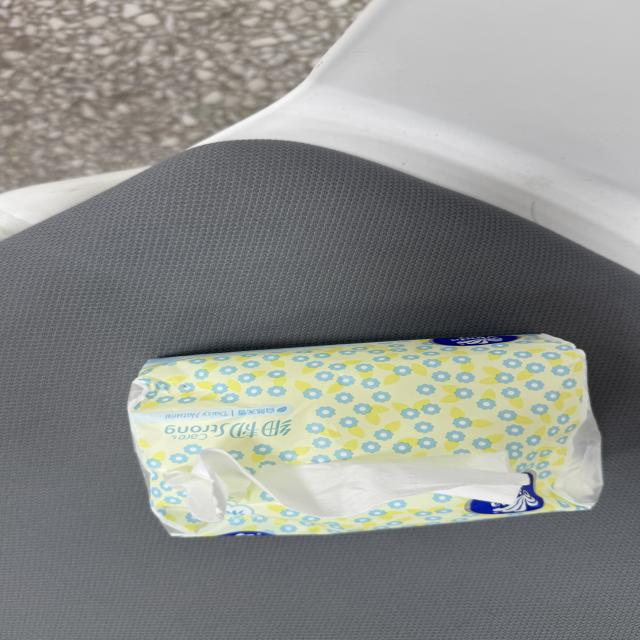tissue: (130, 336, 601, 535)
